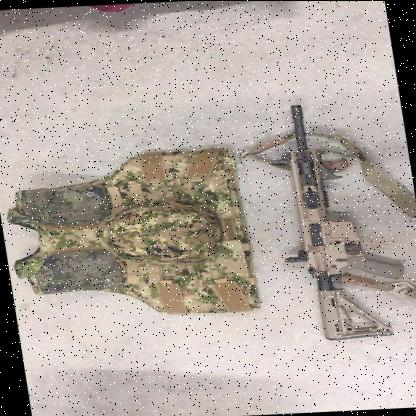rifle: (270, 98, 406, 348)
